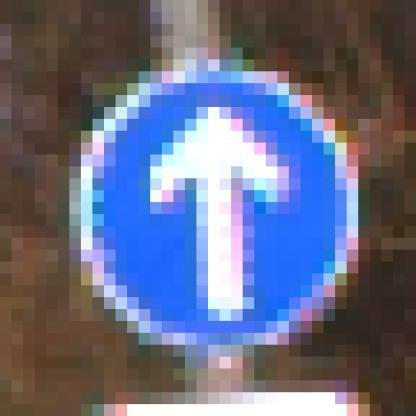straight: (58, 59, 381, 368)
